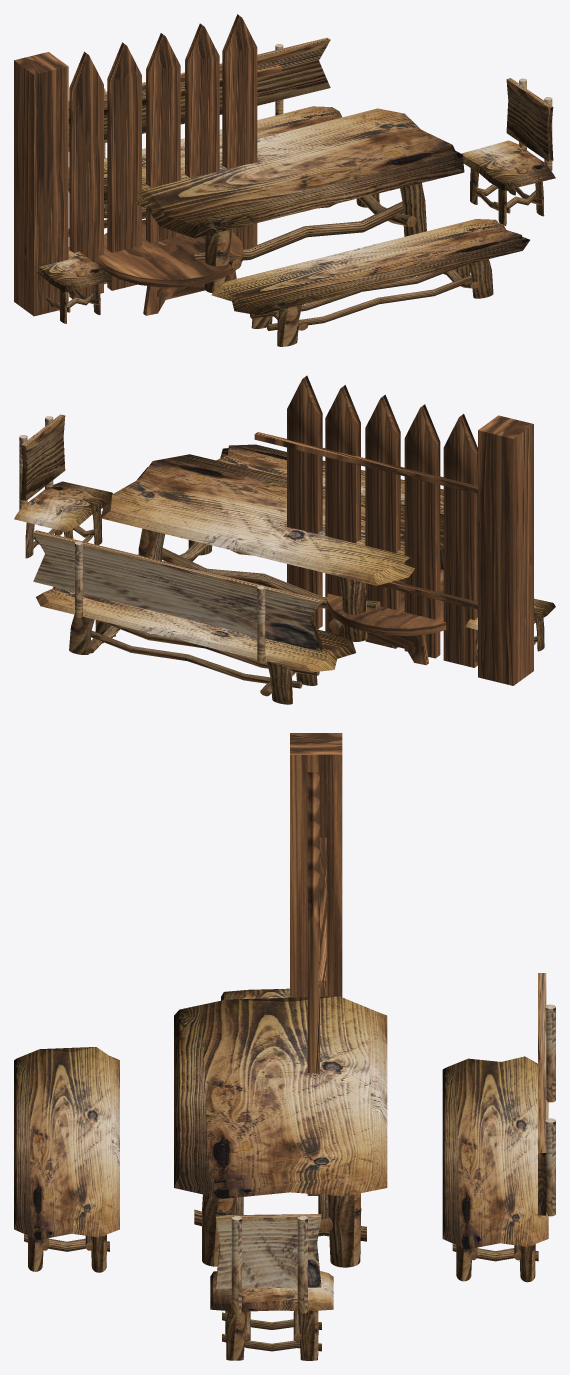
The model's file is Table - type 1.fbx.
3 views of the same model, one above another, from view 1: azimuth 30°, elevation 25°; view 2: azimuth 150°, elevation 25°; view 3: azimuth 270°, elevation 25° (orthographic). The views are drawn at different scales.
Visible parts, largest first — view 1: pCube18, masa, peika_bez_oblegalka, pCube5, stol_s_oblegalka, peika_s_oblegalka, Wooden_Table, stol_bez_oblegalka; view 2: pCube18, peika_s_oblegalka, masa, pCube5, stol_s_oblegalka, Wooden_Table, peika_bez_oblegalka, stol_bez_oblegalka; view 3: masa, peika_s_oblegalka, peika_bez_oblegalka, stol_s_oblegalka, pCube5, pCube18.
Boxes of the visible parts, <box> form: pCube18: <box>68,14,281,298</box>; masa: <box>133,108,464,293</box>; peika_bez_oblegalka: <box>211,219,529,346</box>; pCube5: <box>14,52,68,316</box>; stol_s_oblegalka: <box>461,78,555,225</box>; peika_s_oblegalka: <box>68,37,341,218</box>; Wooden_Table: <box>98,219,243,315</box>; stol_bez_oblegalka: <box>37,247,111,323</box>; pCube18: <box>254,375,477,667</box>; peika_s_oblegalka: <box>33,530,355,704</box>; masa: <box>101,454,443,641</box>; pCube5: <box>478,415,533,685</box>; stol_s_oblegalka: <box>14,414,112,558</box>; Wooden_Table: <box>327,569,446,665</box>; peika_bez_oblegalka: <box>216,444,443,569</box>; stol_bez_oblegalka: <box>465,598,555,662</box>; masa: <box>174,996,387,1267</box>; peika_s_oblegalka: <box>442,973,555,1282</box>; peika_bez_oblegalka: <box>14,1047,119,1272</box>; stol_s_oblegalka: <box>210,1214,333,1360</box>; pCube5: <box>290,733,342,997</box>; pCube18: <box>307,772,326,1195</box>.
Bounding box in the file's own units: 774 × 361 × 558.
Materials: 2 (2 with a texture image).
